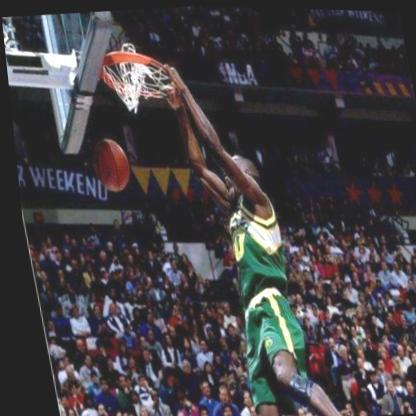basketball: (85, 136, 131, 193)
